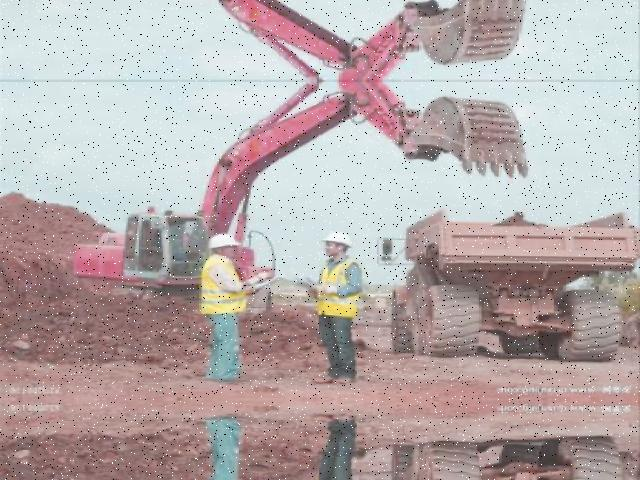Helmet: (208, 229, 246, 254), (322, 228, 359, 250)
